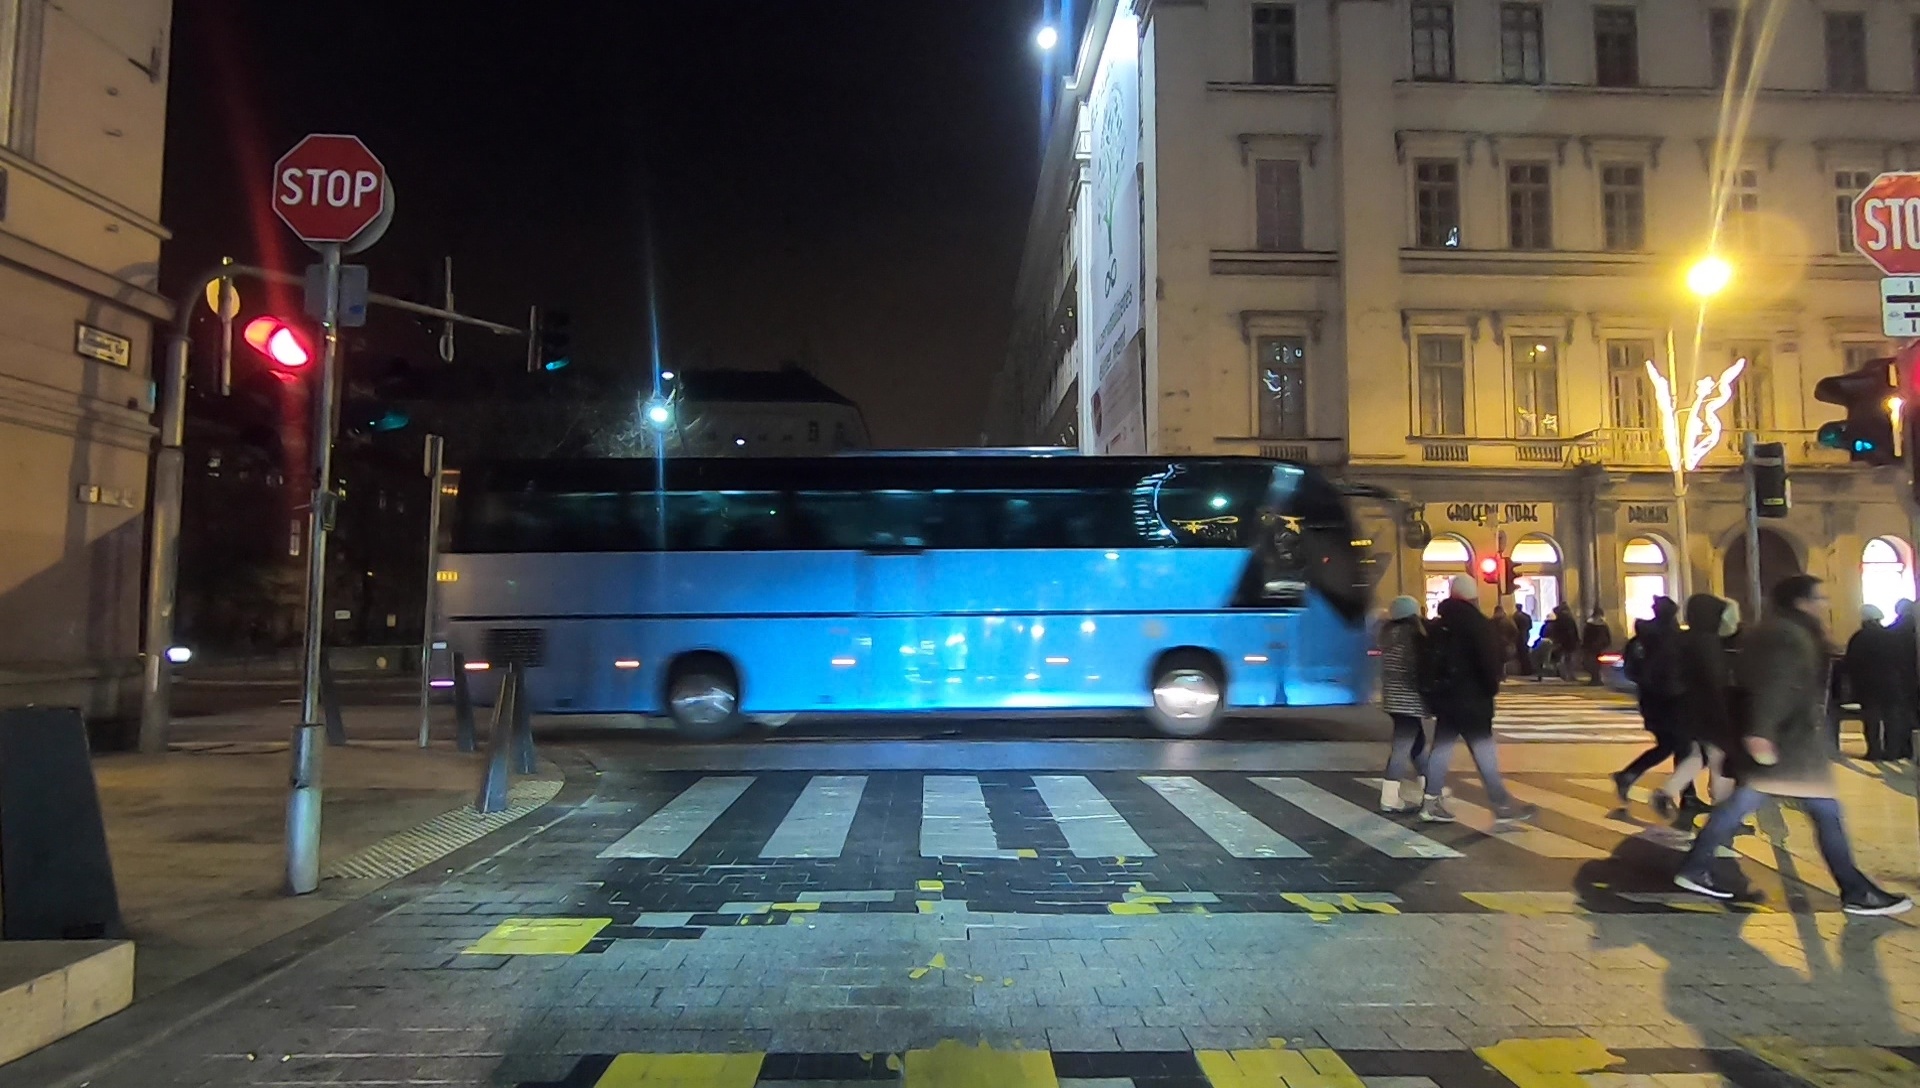person: (1689, 591, 1884, 915), (1428, 578, 1530, 834), (1612, 599, 1706, 821), (1680, 584, 1751, 836), (1371, 595, 1436, 811), (1547, 610, 1573, 676), (1586, 613, 1606, 680)
